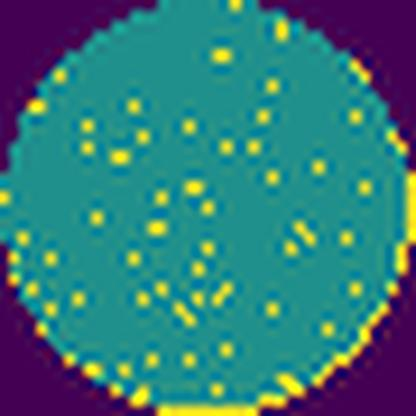Edge-Loc: (154, 175, 415, 416)
